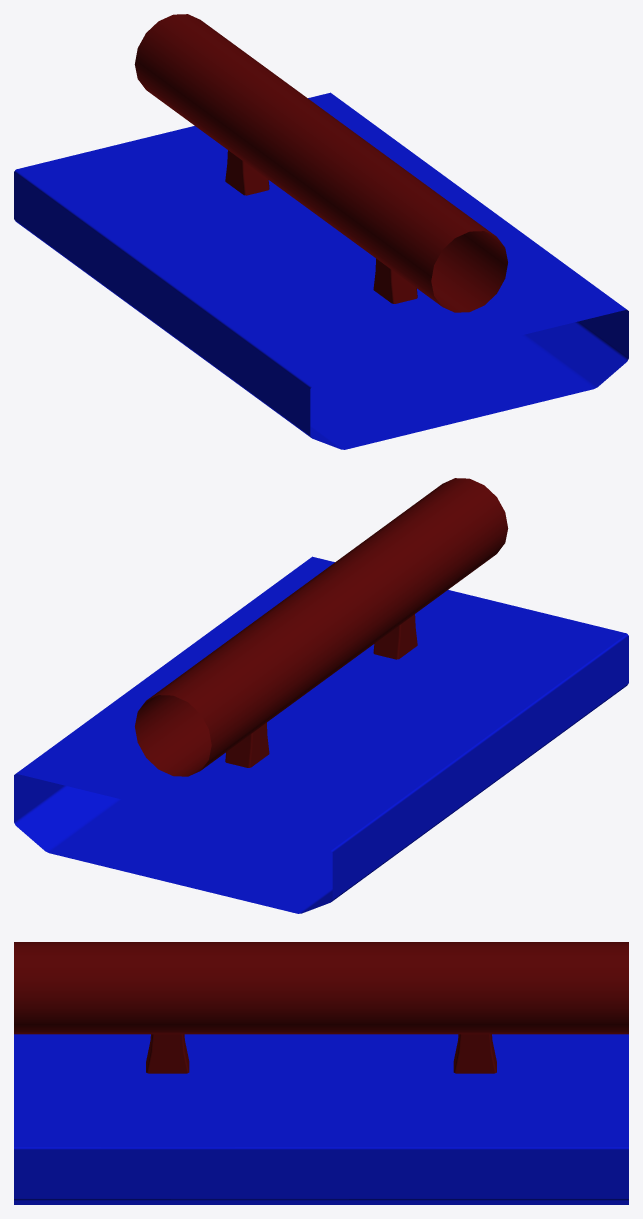
The model's file is TramBridge_Concrete_04.FBX.
3 renders of one model, top to bottom at view 1: azimuth 30°, elevation 25°; view 2: azimuth 150°, elevation 25°; view 3: azimuth 270°, elevation 25°, orthographic. The views are drawn at different scales.
Visible parts, largest first — view 1: TramBridge_Concrete_04_LOD0; view 2: TramBridge_Concrete_04_LOD0; view 3: TramBridge_Concrete_04_LOD0.
Boxes of the visible parts, box(x1,y1,x2,y2) form: TramBridge_Concrete_04_LOD0: box(14, 14, 628, 449); TramBridge_Concrete_04_LOD0: box(14, 478, 628, 913); TramBridge_Concrete_04_LOD0: box(14, 942, 628, 1204).
Size of the model in its own units: 248 by 140 by 400.
